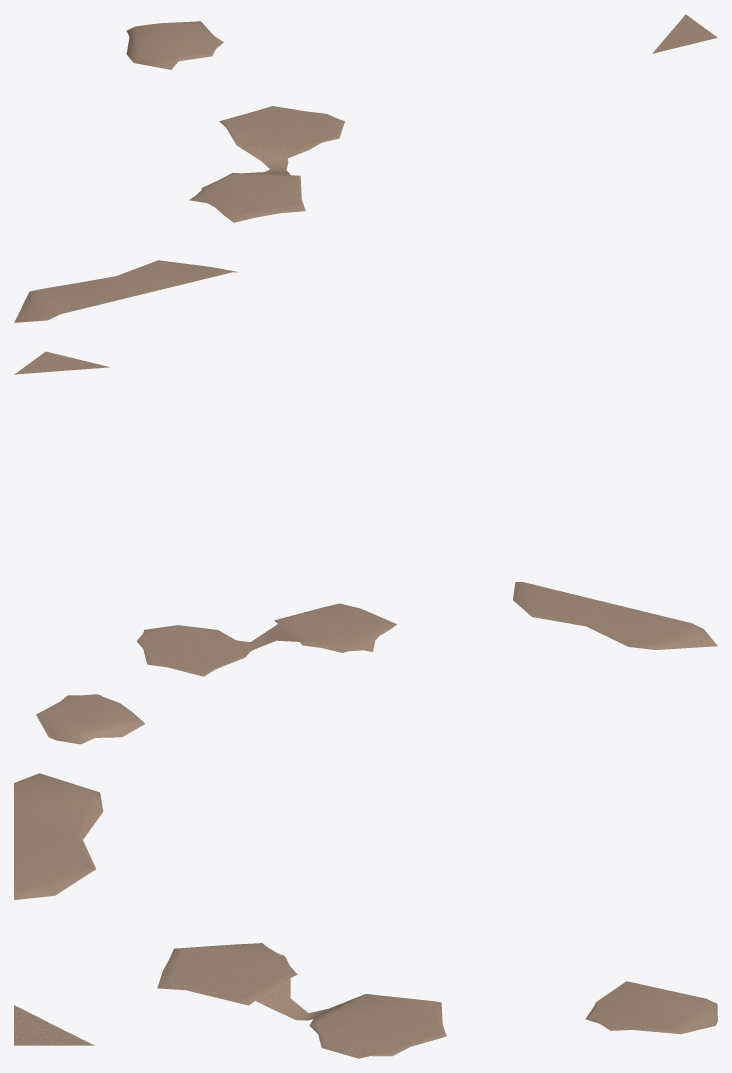
The model's file is kd_stage_13612f_0_13_bounded.glb.
3 views of the same model, one above another, from view 1: azimuth 30°, elevation 25°; view 2: azimuth 150°, elevation 25°; view 3: azimuth 270°, elevation 25° (orthographic). The views are drawn at different scales.
Visible parts, largest first — view 1: kd_stage_13612f_0_13_bounded; view 2: kd_stage_13612f_0_13_bounded; view 3: kd_stage_13612f_0_13_bounded.
Part boxes in pixels (x1,y1,x2,y2): kd_stage_13612f_0_13_bounded: (14, 14, 717, 322); kd_stage_13612f_0_13_bounded: (14, 351, 717, 744); kd_stage_13612f_0_13_bounded: (14, 773, 717, 1058).
Bounding box in the file's own units: 84.46 × 15.81 × 58.66.
1 material, 1 textured.
